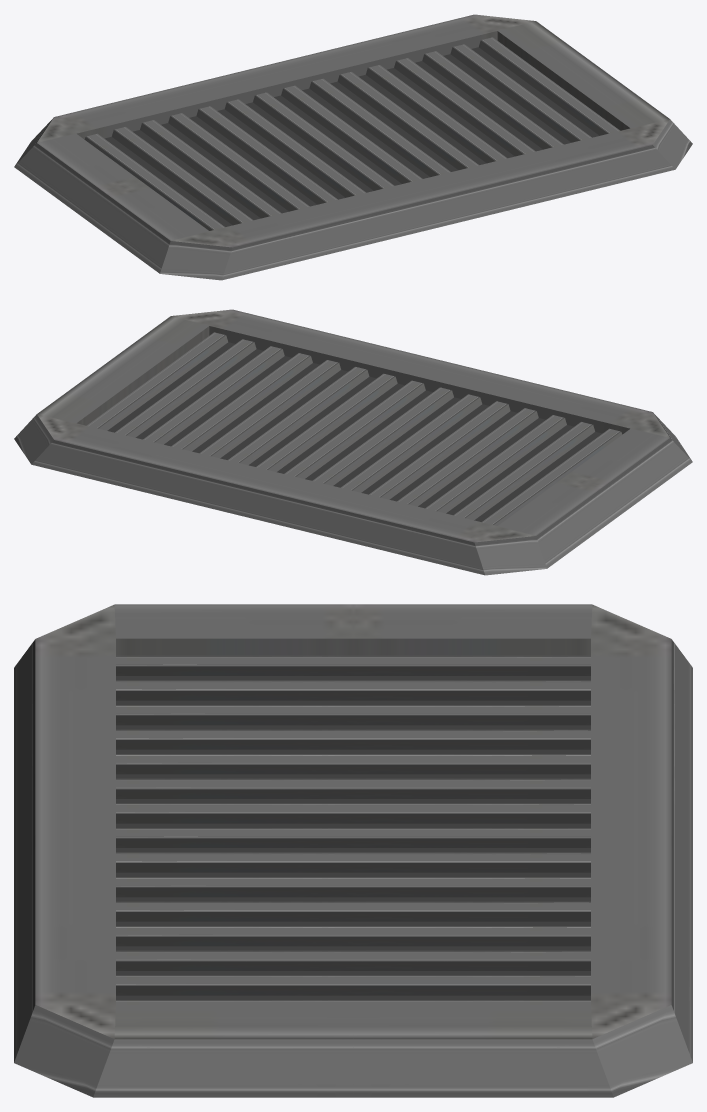
File: Prop_Vent_Small.gltf
The picture shows the model from 3 angles, top to bottom: view 1: azimuth 30°, elevation 25°; view 2: azimuth 150°, elevation 25°; view 3: azimuth 270°, elevation 25°; orthographic projection. The views are drawn at different scales.
Parts seen in each view (by area): view 1: Prop_Vent_Small; view 2: Prop_Vent_Small; view 3: Prop_Vent_Small.
Part boxes in pixels (x1=…): Prop_Vent_Small: x1=14, y1=14, x2=692, y2=280; Prop_Vent_Small: x1=14, y1=309, x2=692, y2=575; Prop_Vent_Small: x1=14, y1=604, x2=692, y2=1097.
Bounding box in the file's own units: 1 × 0.0438 × 0.6183.
3 materials, 2 textured.
